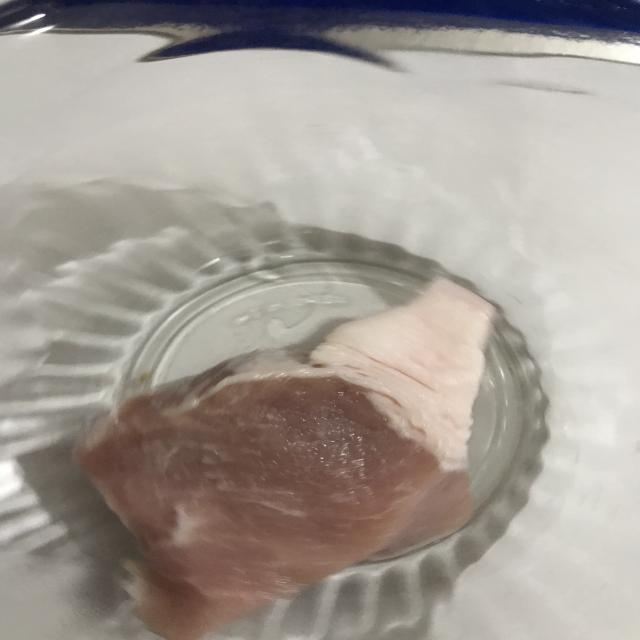chicken: (77, 282, 503, 640)
